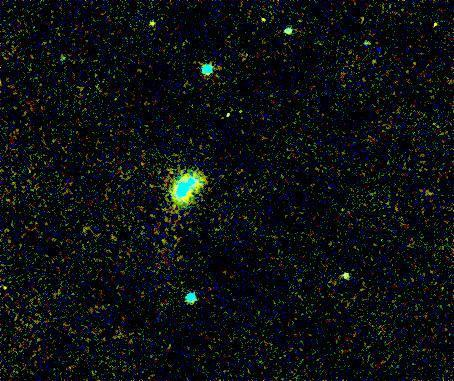star: (329, 262, 359, 292)
